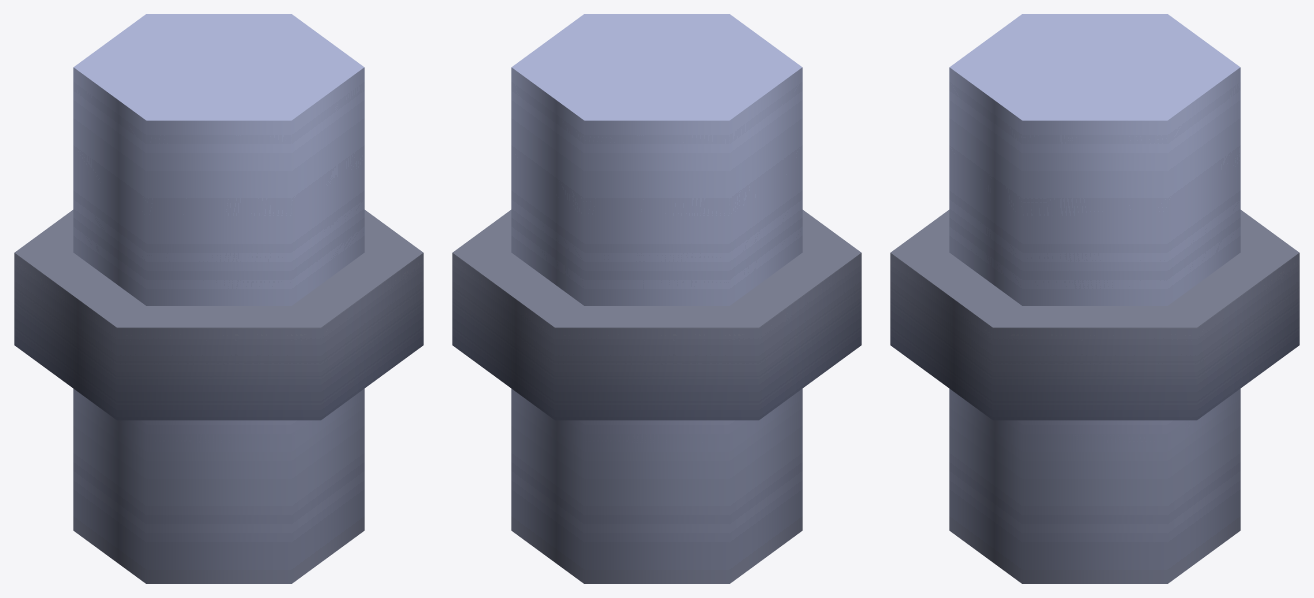
Rendered from kst_pipe_ring.glb.
3 renders of one model, left to right at view 1: azimuth 30°, elevation 25°; view 2: azimuth 150°, elevation 25°; view 3: azimuth 270°, elevation 25°, orthographic.
Parts seen in each view (by area): view 1: pipe-ring; view 2: pipe-ring; view 3: pipe-ring.
Boxes of the visible parts, bbox=[...] form: pipe-ring: bbox=[14, 14, 423, 583]; pipe-ring: bbox=[452, 14, 861, 583]; pipe-ring: bbox=[890, 14, 1299, 583].
Size of the model in its own units: 0.6928 by 1 by 0.8.
1 material, 1 textured.
